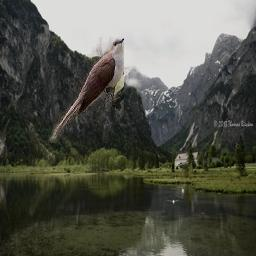Cuckoo: (48, 37, 124, 143)
